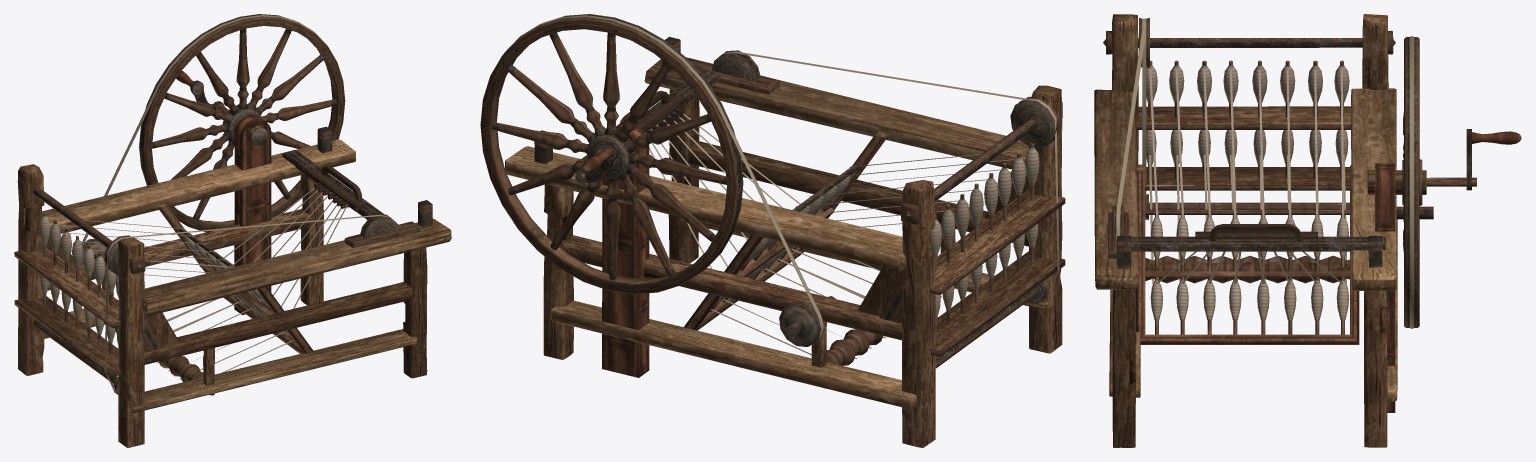
Rendered from o_mdl_env_propSpinningWheel_c-transformed.glb.
The picture shows the model from 3 angles, left to right: view 1: azimuth 30°, elevation 25°; view 2: azimuth 150°, elevation 25°; view 3: azimuth 270°, elevation 25°; orthographic projection. The views are drawn at different scales.
Parts seen in each view (by area): view 1: default; view 2: default; view 3: default.
Boxes of the visible parts, bbox=[...] form: default: bbox=[14, 14, 451, 447]; default: bbox=[480, 14, 1065, 447]; default: bbox=[1094, 14, 1521, 447].
Size of the model in its own units: 3.42 by 2.72 by 2.94.
2 materials, 2 textured.
